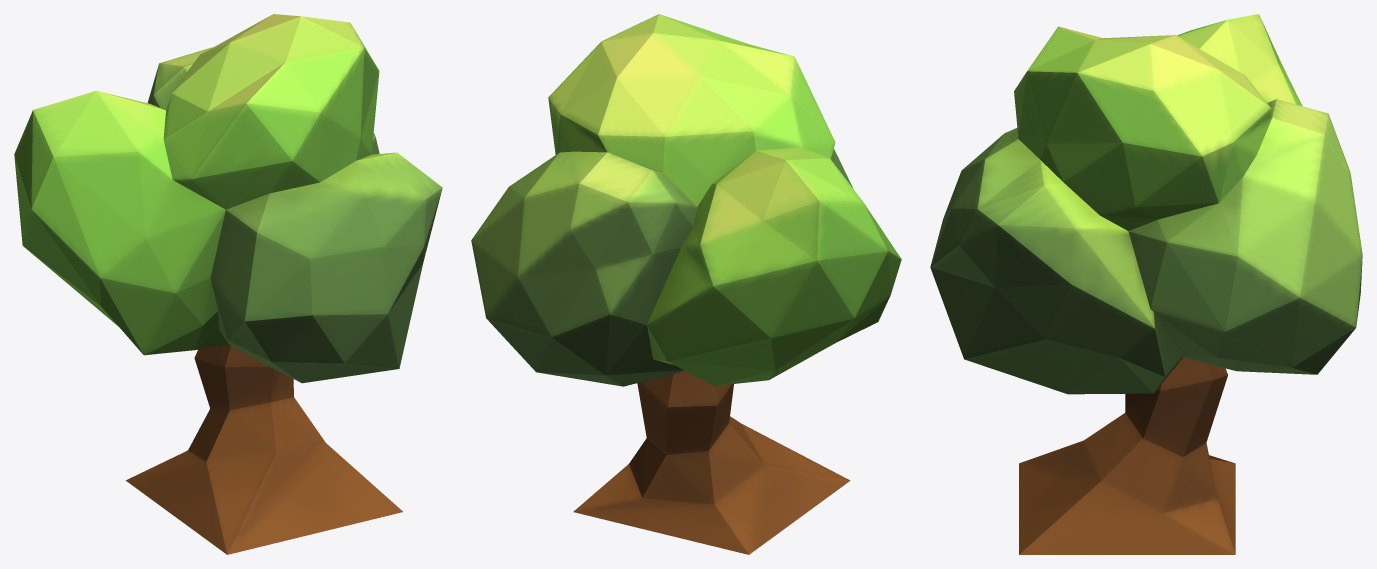
The model's file is ArbrePrairie_E.FBX.
3 renders of one model, left to right at view 1: azimuth 30°, elevation 25°; view 2: azimuth 150°, elevation 25°; view 3: azimuth 270°, elevation 25°, orthographic. The views are drawn at different scales.
Visible parts, largest first — view 1: ArbrePrairie_E; view 2: ArbrePrairie_E; view 3: ArbrePrairie_E.
Part boxes in pixels (left/top/right/bottom): ArbrePrairie_E: left=14, top=14, right=442, bottom=554; ArbrePrairie_E: left=471, top=14, right=901, bottom=554; ArbrePrairie_E: left=930, top=14, right=1362, bottom=554.
Size of the model in its own units: 2.1 by 2.5 by 2.
